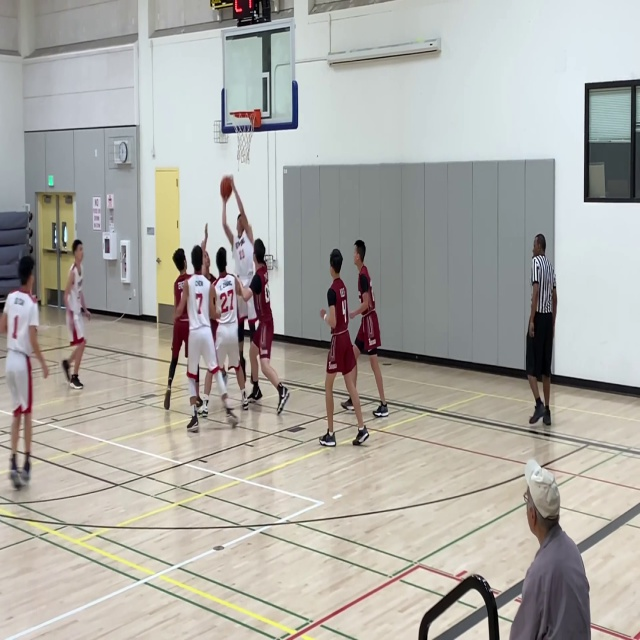Basketball: (220, 175, 233, 199)
